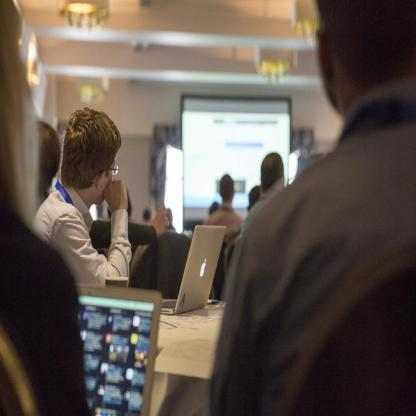board: (76, 286, 161, 416), (144, 224, 226, 316)
